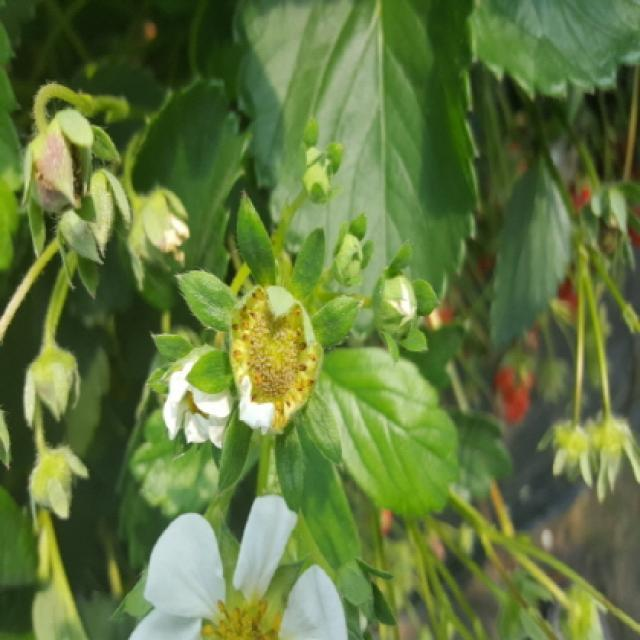Blossom Blight: (228, 286, 321, 433)
